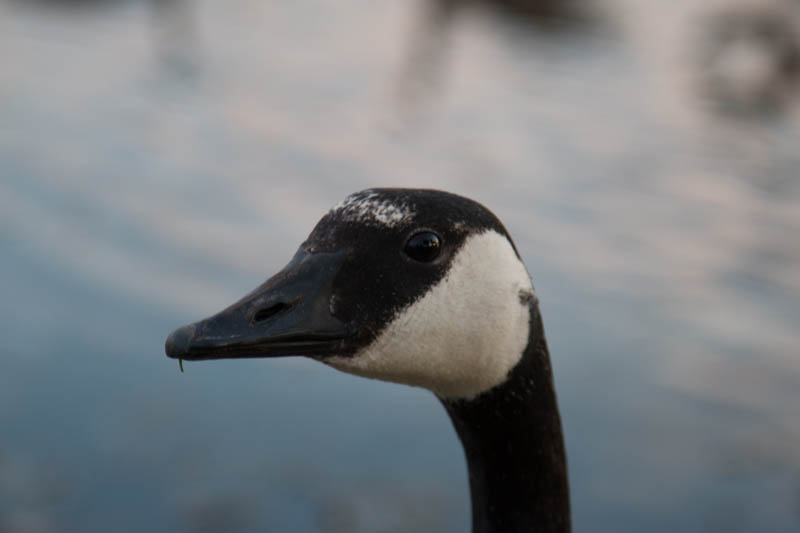goose-head: (164, 187, 545, 402)
